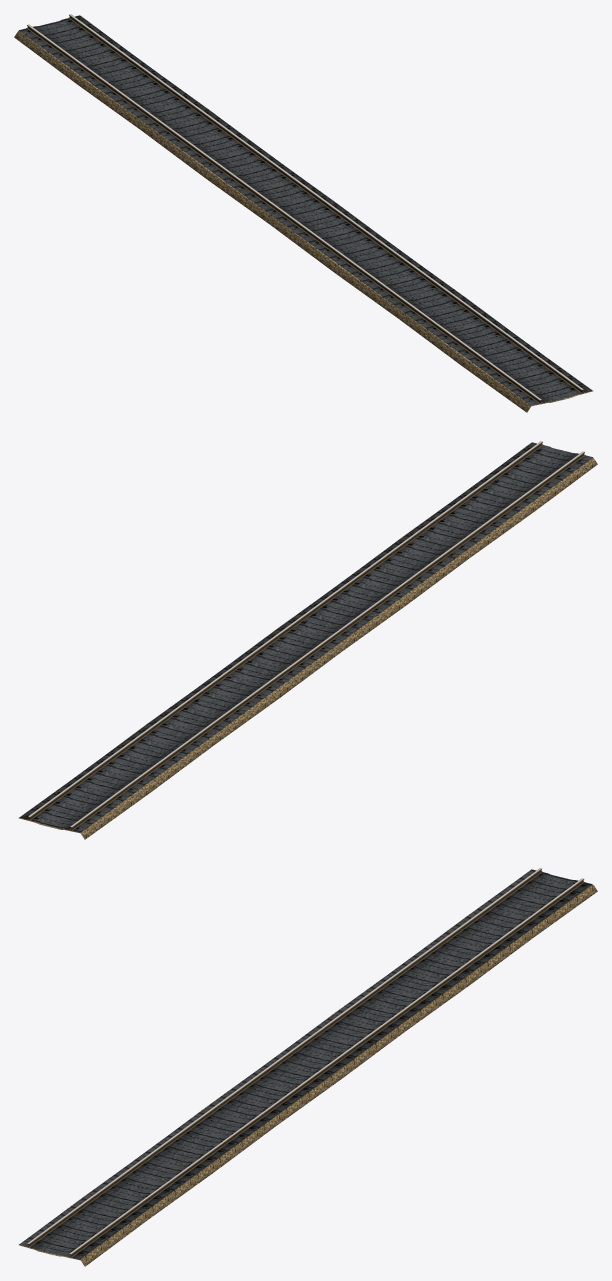
Rendered from 1RAIL_JARI.glb.
The picture shows the model from 3 angles, top to bottom: view 1: azimuth 30°, elevation 25°; view 2: azimuth 150°, elevation 25°; view 3: azimuth 330°, elevation 25°; orthographic projection.
Parts seen in each view (by area): view 1: obj6; view 2: obj6; view 3: obj6.
Boxes of the visible parts, box(x1,y1,x2,y2) form: obj6: box(14, 14, 593, 412); obj6: box(18, 441, 597, 839); obj6: box(19, 868, 597, 1266).
Size of the model in its own units: 8.09 by 1.01 by 100.
3 materials, 2 textured.
